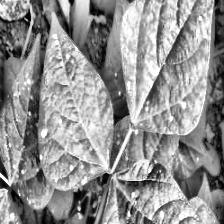Bean Rust: (39, 9, 117, 187), (118, 0, 214, 133), (0, 36, 46, 211), (101, 167, 224, 224)
